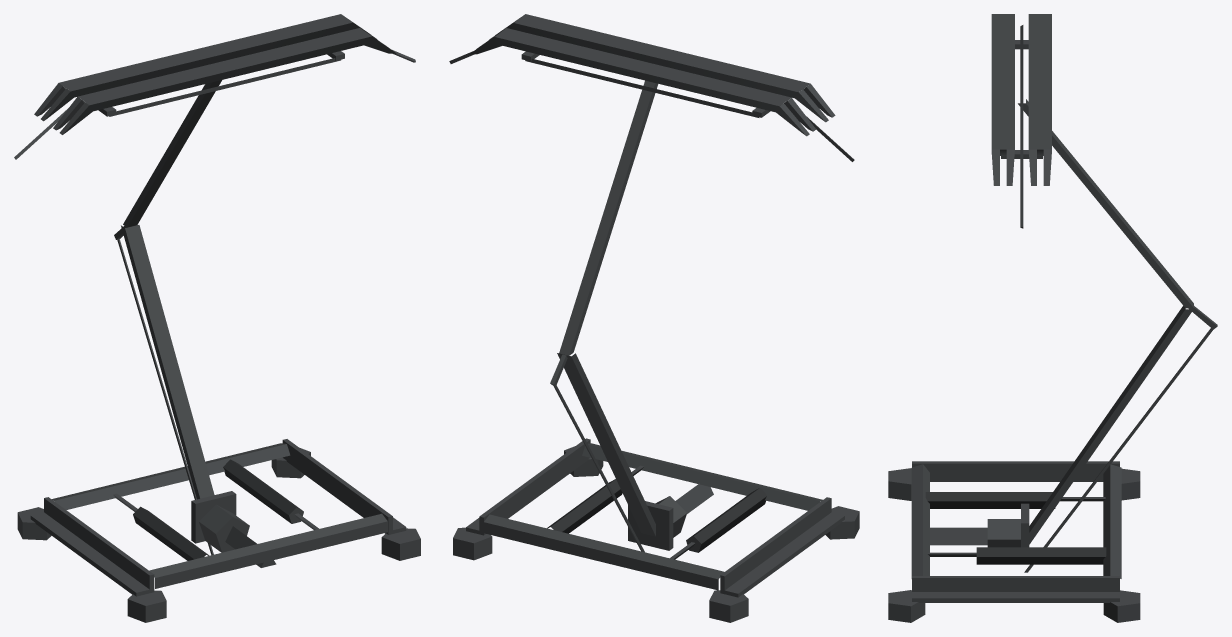
File: K800_PANTA01.glb
3 renders of one model, left to right at view 1: azimuth 30°, elevation 25°; view 2: azimuth 150°, elevation 25°; view 3: azimuth 270°, elevation 25°, orthographic. The views are drawn at different scales.
Visible parts, largest first — view 1: panta; view 2: panta; view 3: panta.
Boxes of the visible parts, bbox=[...] form: panta: bbox=[14, 14, 420, 622]; panta: bbox=[449, 14, 859, 622]; panta: bbox=[888, 14, 1217, 622].
Size of the model in its own units: 4.48 by 5.33 by 3.24.
1 material, 1 textured.
